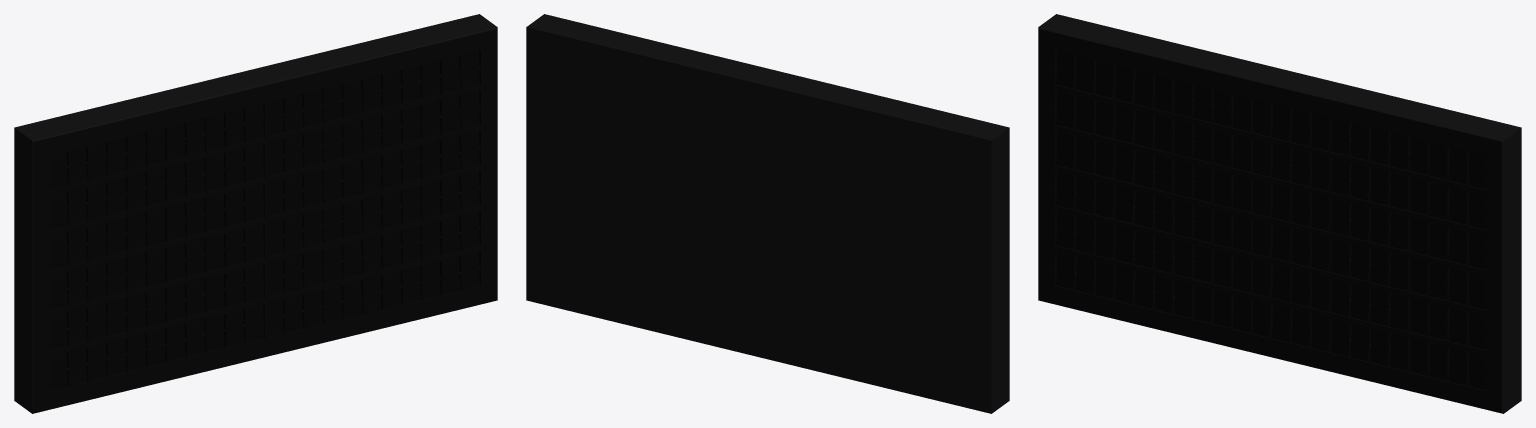
The model's file is splitflap_6x22.glb.
3 renders of one model, left to right at view 1: azimuth 30°, elevation 25°; view 2: azimuth 150°, elevation 25°; view 3: azimuth 330°, elevation 25°, orthographic.
Visible parts, largest first — view 1: BoardPlate, BoardCase; view 2: BoardCase; view 3: BoardPlate, BoardCase.
Part boxes in pixels (bbox=[...]): BoardPlate: bbox=[34, 29, 497, 412]; BoardCase: bbox=[14, 14, 497, 413]; BoardCase: bbox=[526, 14, 1009, 413]; BoardPlate: bbox=[1038, 29, 1501, 412]; BoardCase: bbox=[1038, 14, 1521, 413].
Size of the model in its own units: 0.955 by 0.536 by 0.066.
5 materials, 1 textured.
